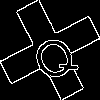Q: (25, 25, 82, 86)
